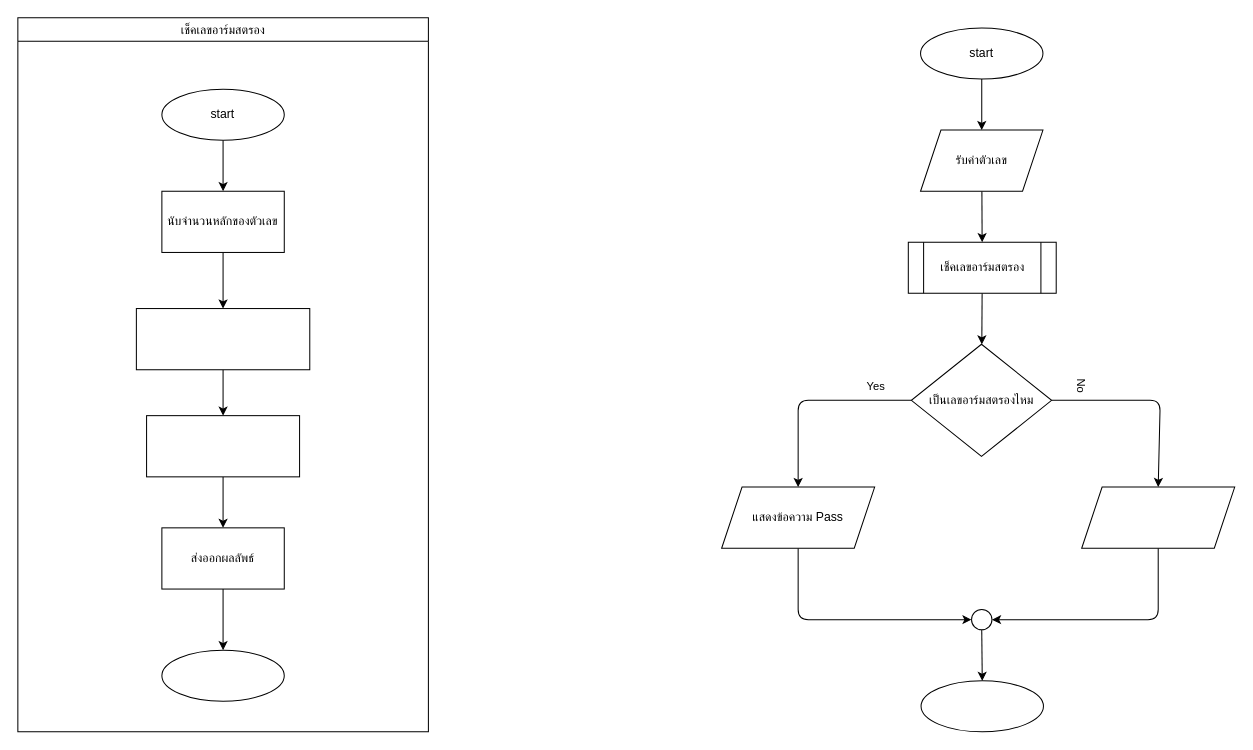
This 1253x750 diagram has some shape labels left out. Here are the shapes that lost their labels. From the top down, the box of each, then its label:
(135, 308, 310, 370): คำนวณผลรวมของแต่ละหลักยกกำลังจำนวนหลัก
(146, 415, 300, 477): รวจสอบผลลัพธ์กับเลขเดิม
(1081, 486, 1235, 548): แสดงข้อความ Not Pass
(161, 649, 284, 701): return
(920, 680, 1043, 732): stop
